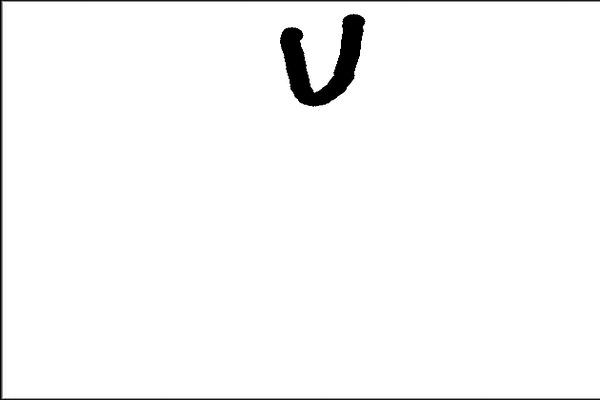U: (266, 6, 374, 106)
